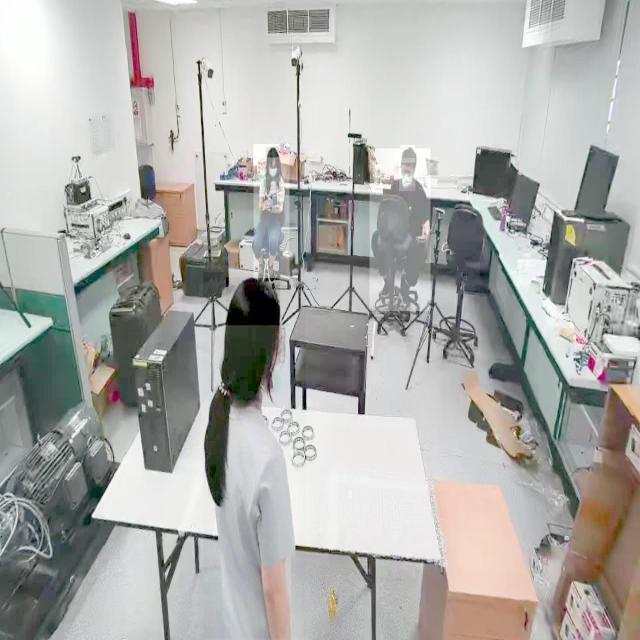face_mask: (399, 158, 415, 191), (267, 156, 281, 182)
hand_noglove: (260, 196, 272, 210)
head_nohelmet: (226, 278, 280, 326), (400, 145, 416, 163), (266, 147, 280, 158)
person: (203, 272, 307, 639), (369, 148, 431, 312), (254, 144, 290, 278)
